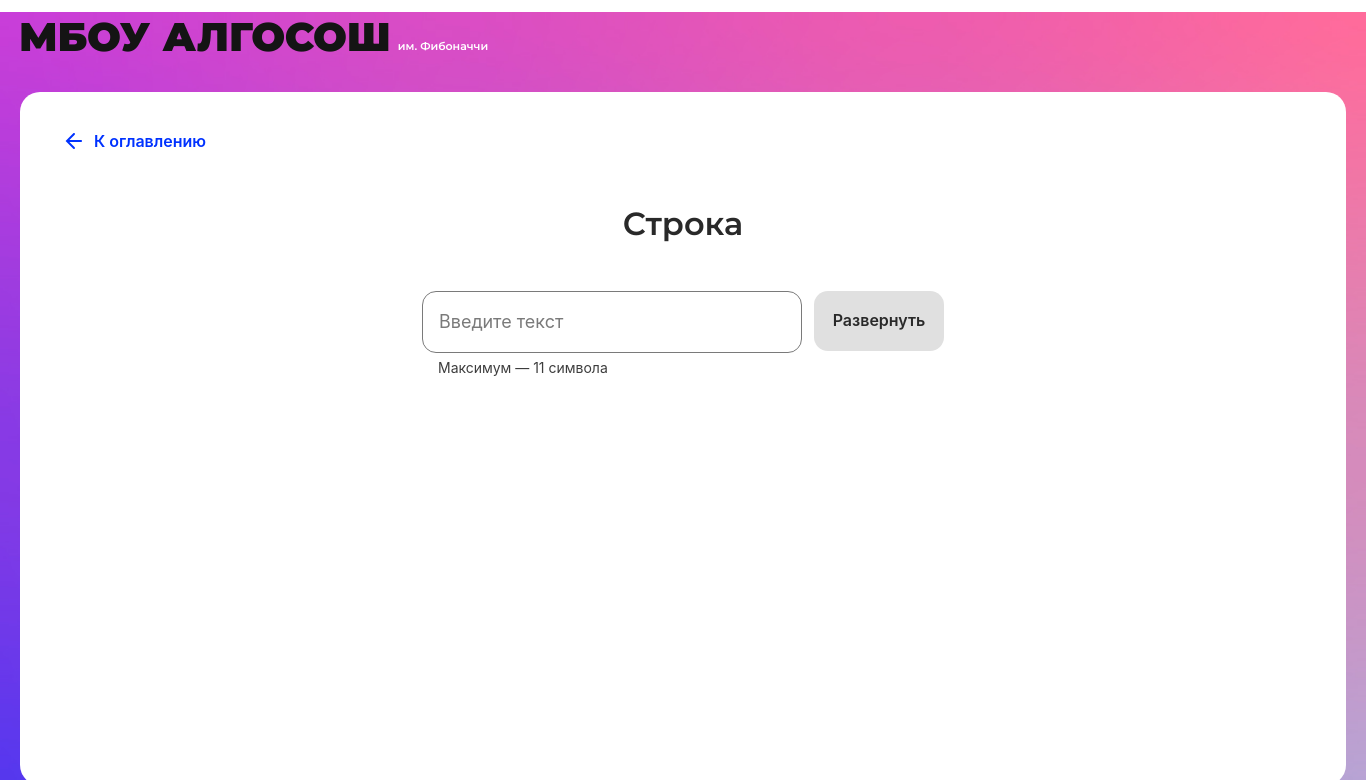
Проверка строки › Кнопка должна блокироваться при пустом инпуте
The image size is (1366, 780).
Check: the heading "Строка" is shown, box [623,204,743,243]
Check: the button "Развернуть" is disabled, box [814,291,944,351]
Type "hello" into the field with placeholder "Введите текст" at (612, 322), box [422,291,802,353]
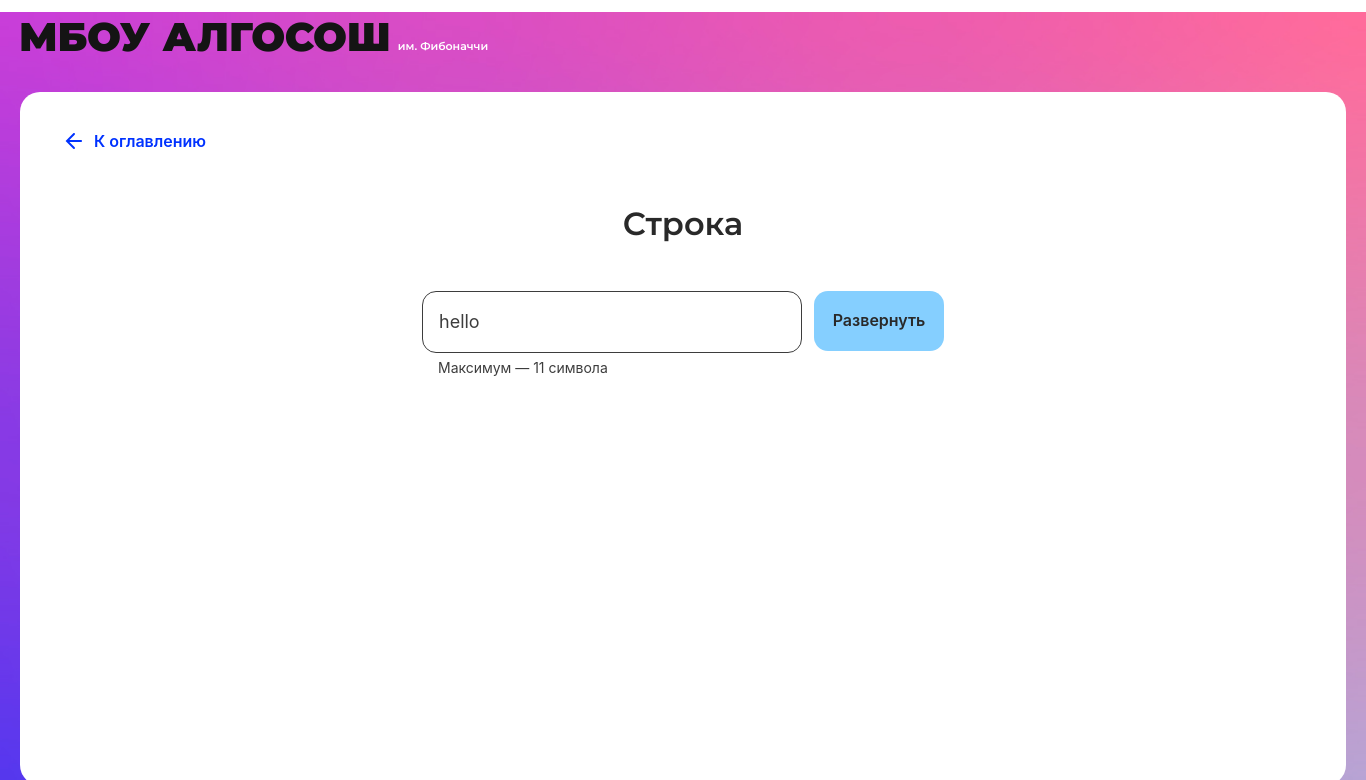
Check: the text "Развернуть" is enabled
Clear the field at (612, 322), box [422,291,802,353]
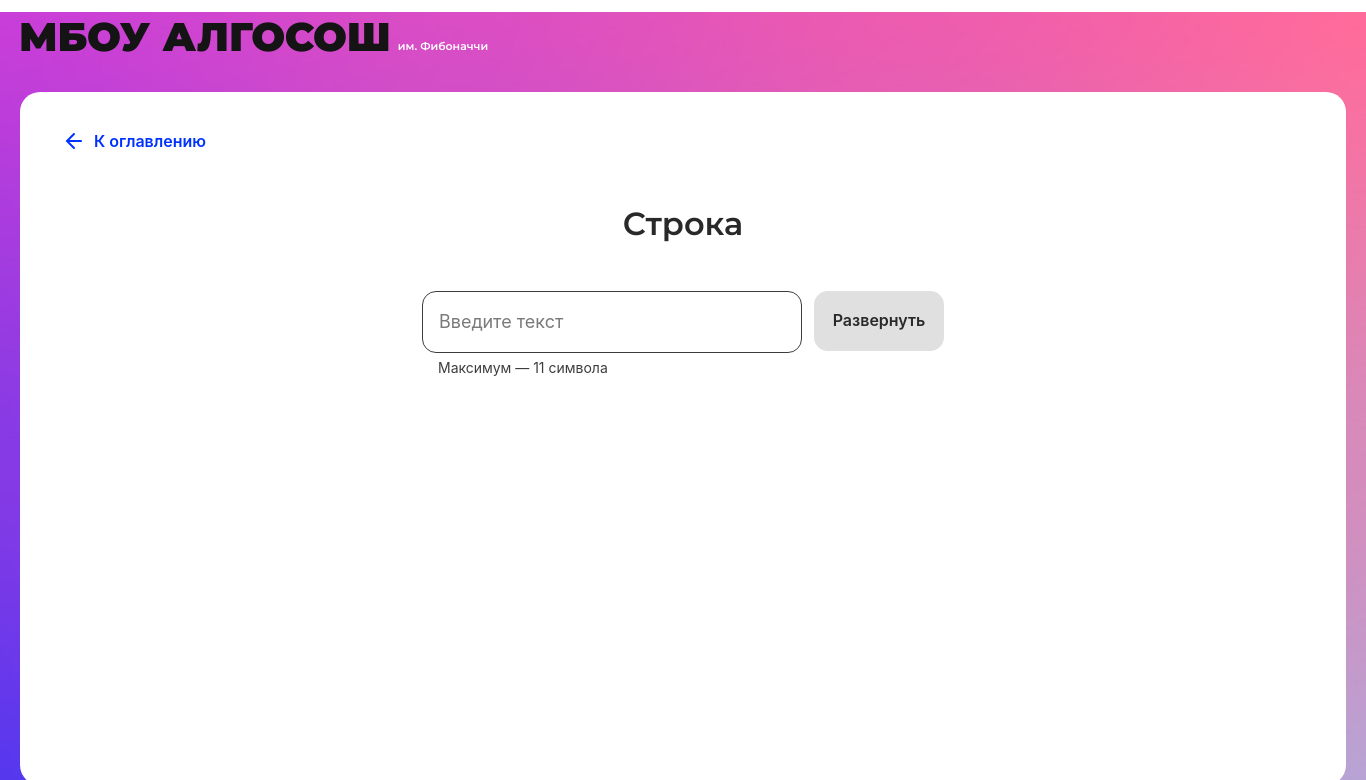
Check: the button "Развернуть" is disabled, box [814,291,944,351]
